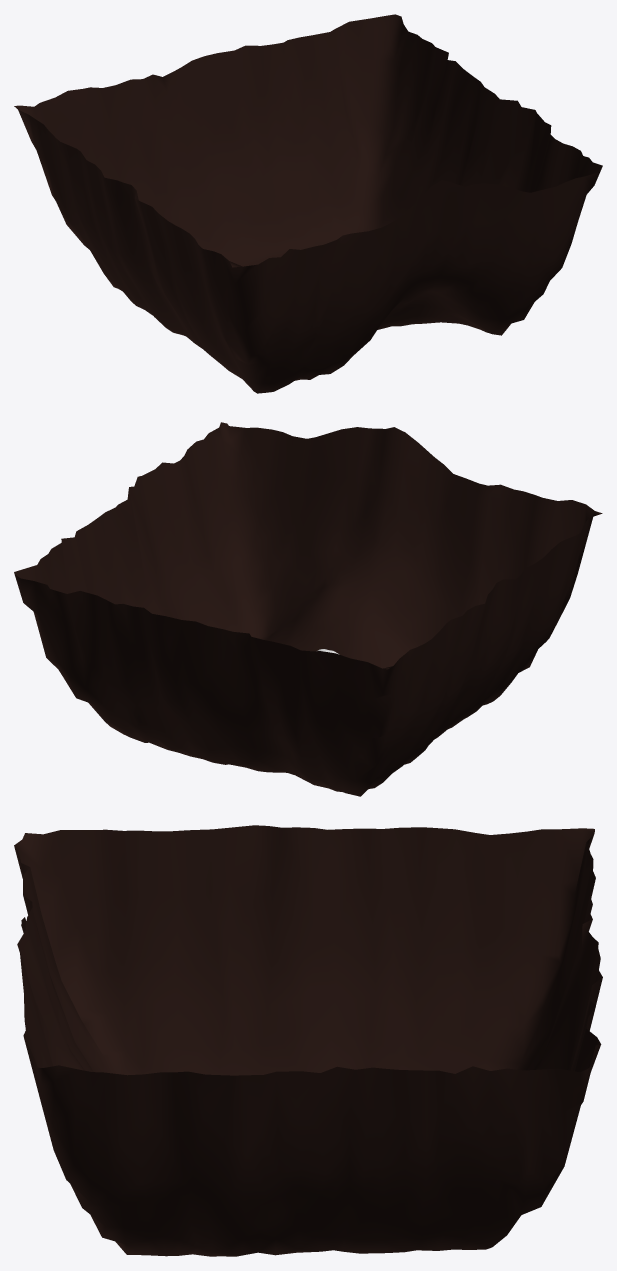
The model's file is Ground.fbx.
3 views of the same model, one above another, from view 1: azimuth 30°, elevation 25°; view 2: azimuth 150°, elevation 25°; view 3: azimuth 270°, elevation 25° (orthographic). The views are drawn at different scales.
Parts seen in each view (by area): view 1: GROUND; view 2: GROUND; view 3: GROUND.
Part boxes in pixels (box(x1,y1,x2,y2)): GROUND: box(14, 14, 602, 393); GROUND: box(14, 422, 602, 796); GROUND: box(14, 825, 602, 1256).
Size of the model in its own units: 36523 by 19047 by 36391.
